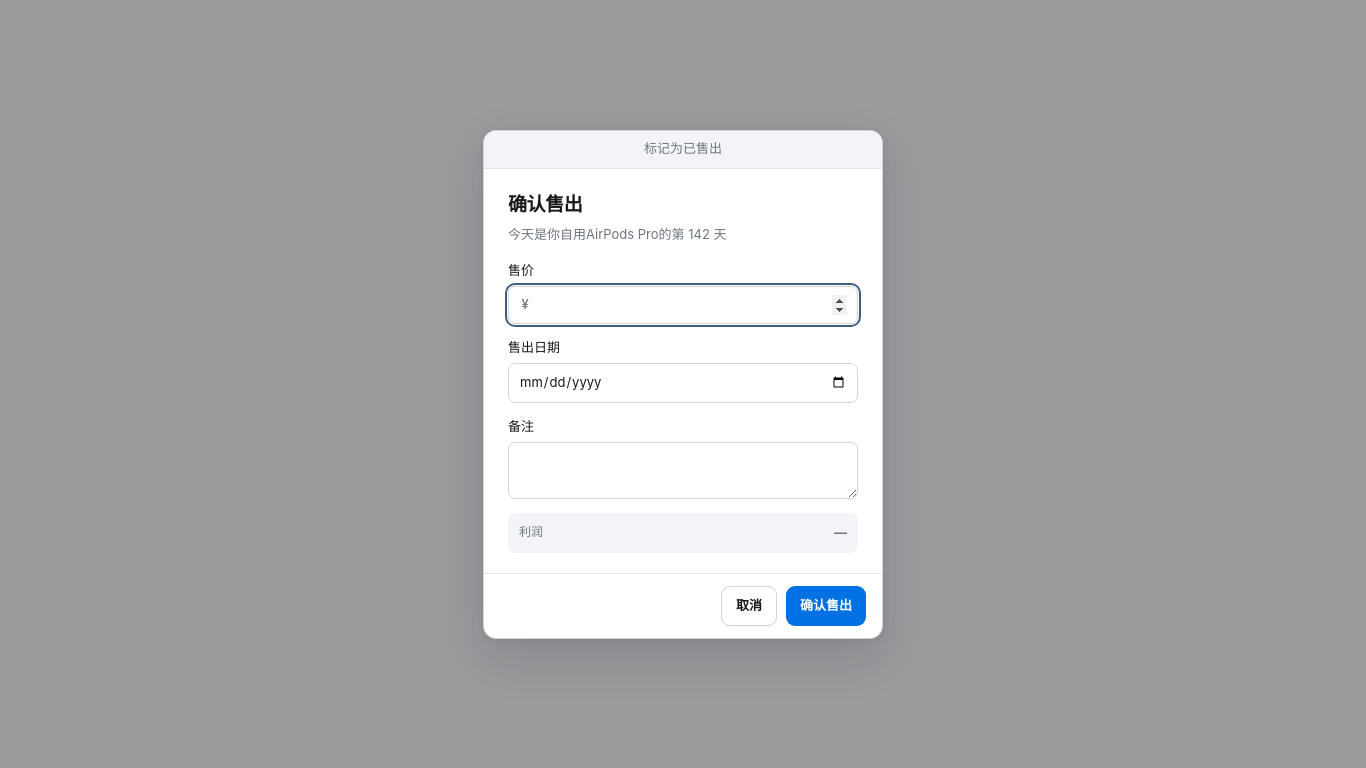
it: SaleConfirmDialog › rejects a negative non-empty sale price
Type "-1" into the number field labelled "售价".
click(693, 305); type("-1")  # box [539,287,847,322]
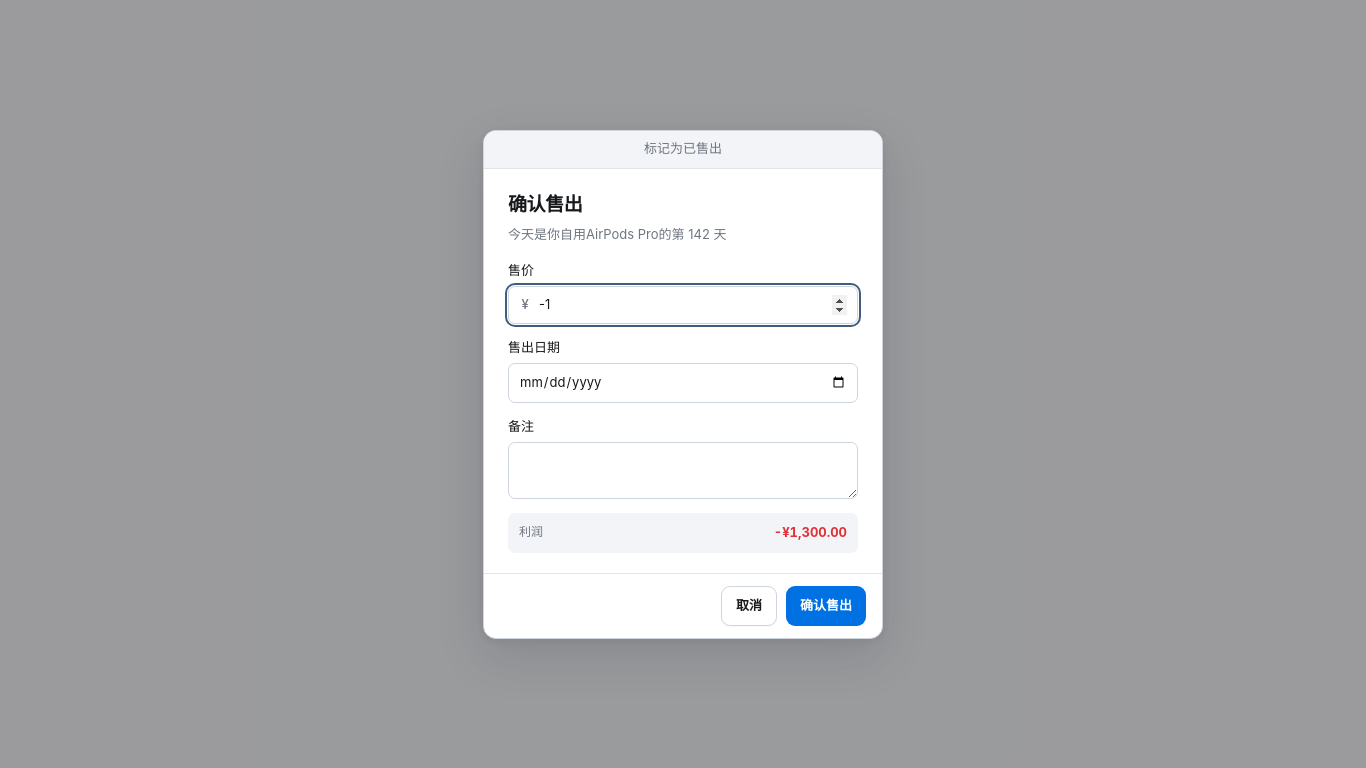
Click the button "确认售出".
click(826, 606)  # box [786,586,866,626]
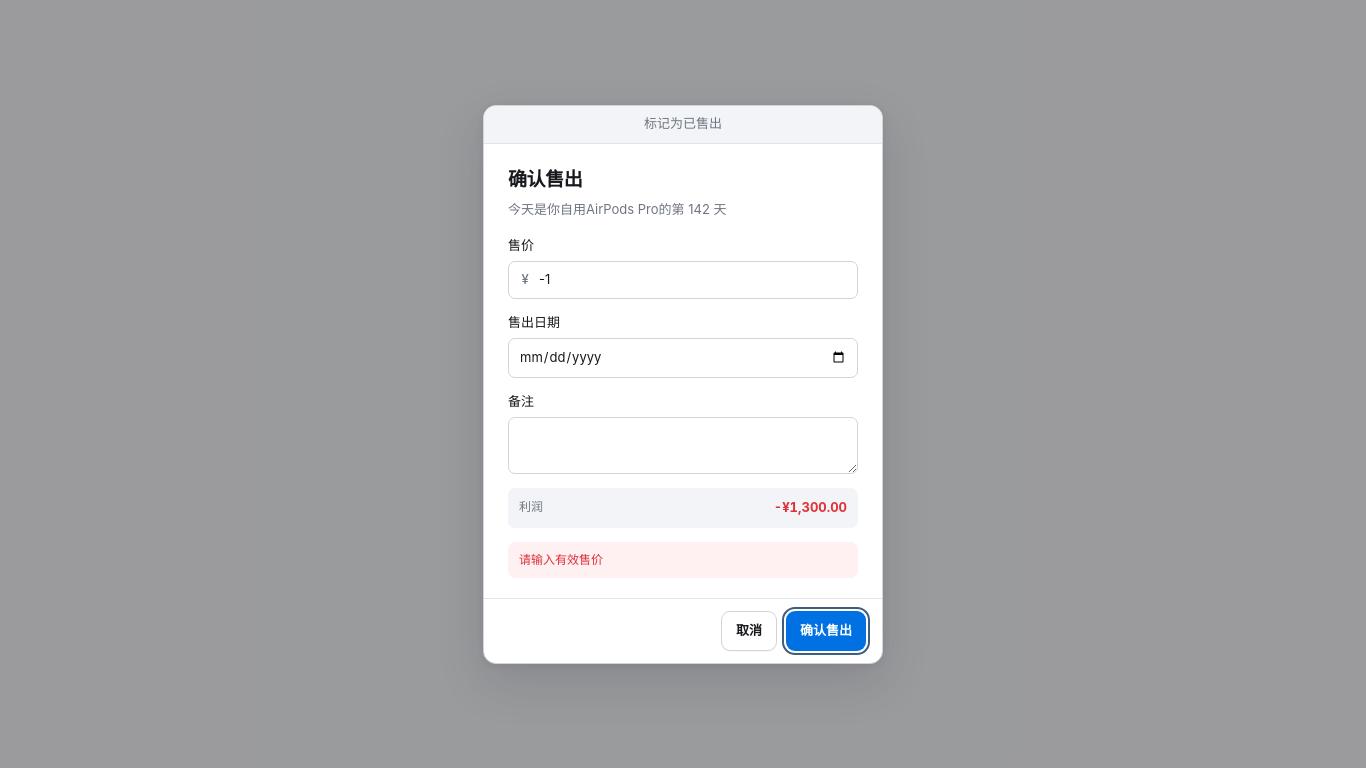
Now the message reads "请输入有效售价", box [519,552,603,566]
